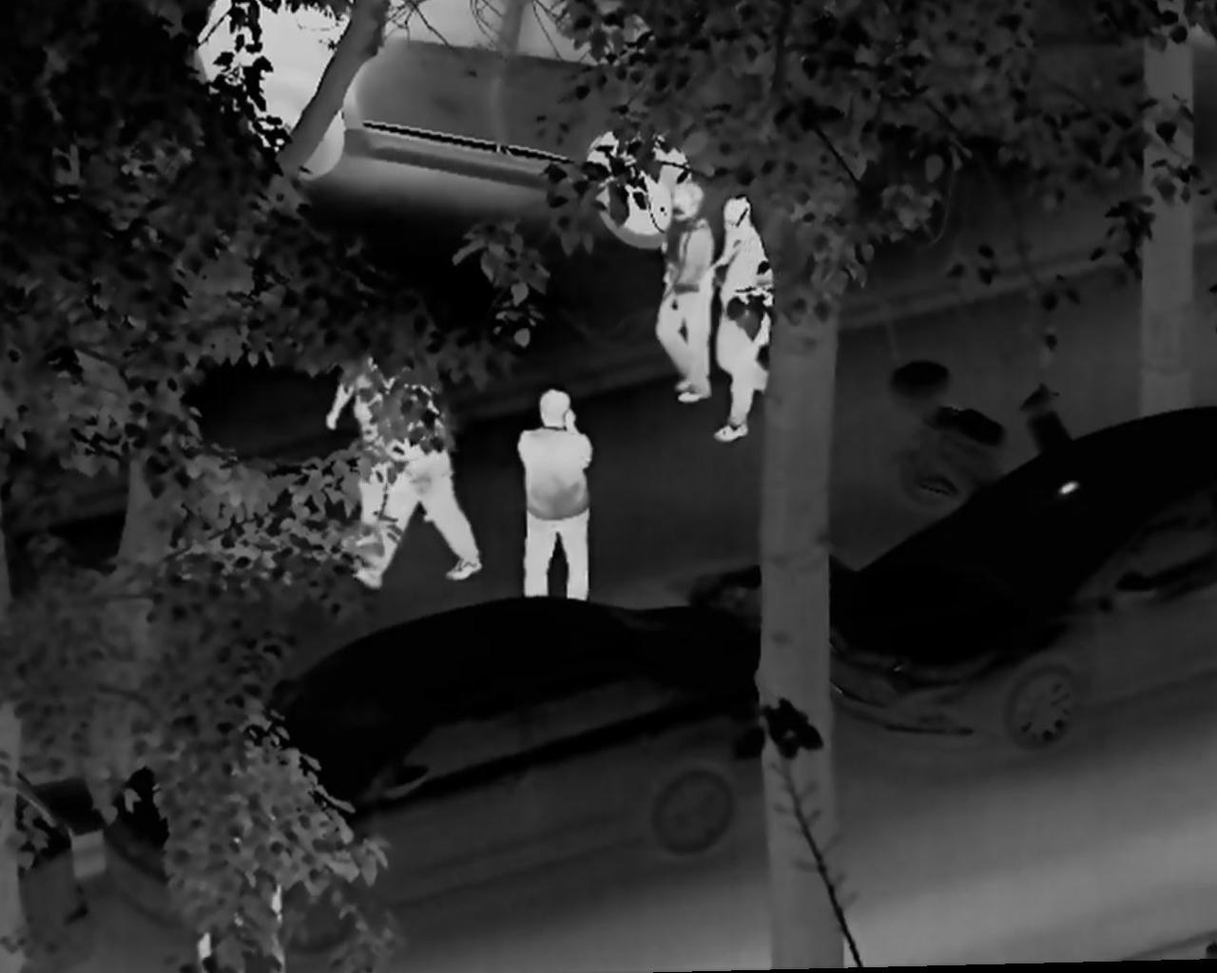person: (355, 361, 485, 594), (323, 322, 412, 563), (705, 193, 781, 449), (513, 386, 598, 605), (651, 181, 717, 409)
